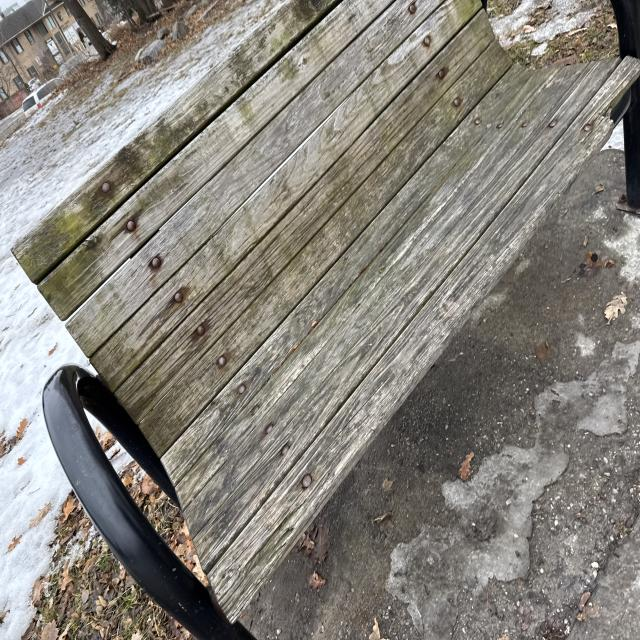Bench: (16, 216, 441, 606), (116, 0, 640, 312)
